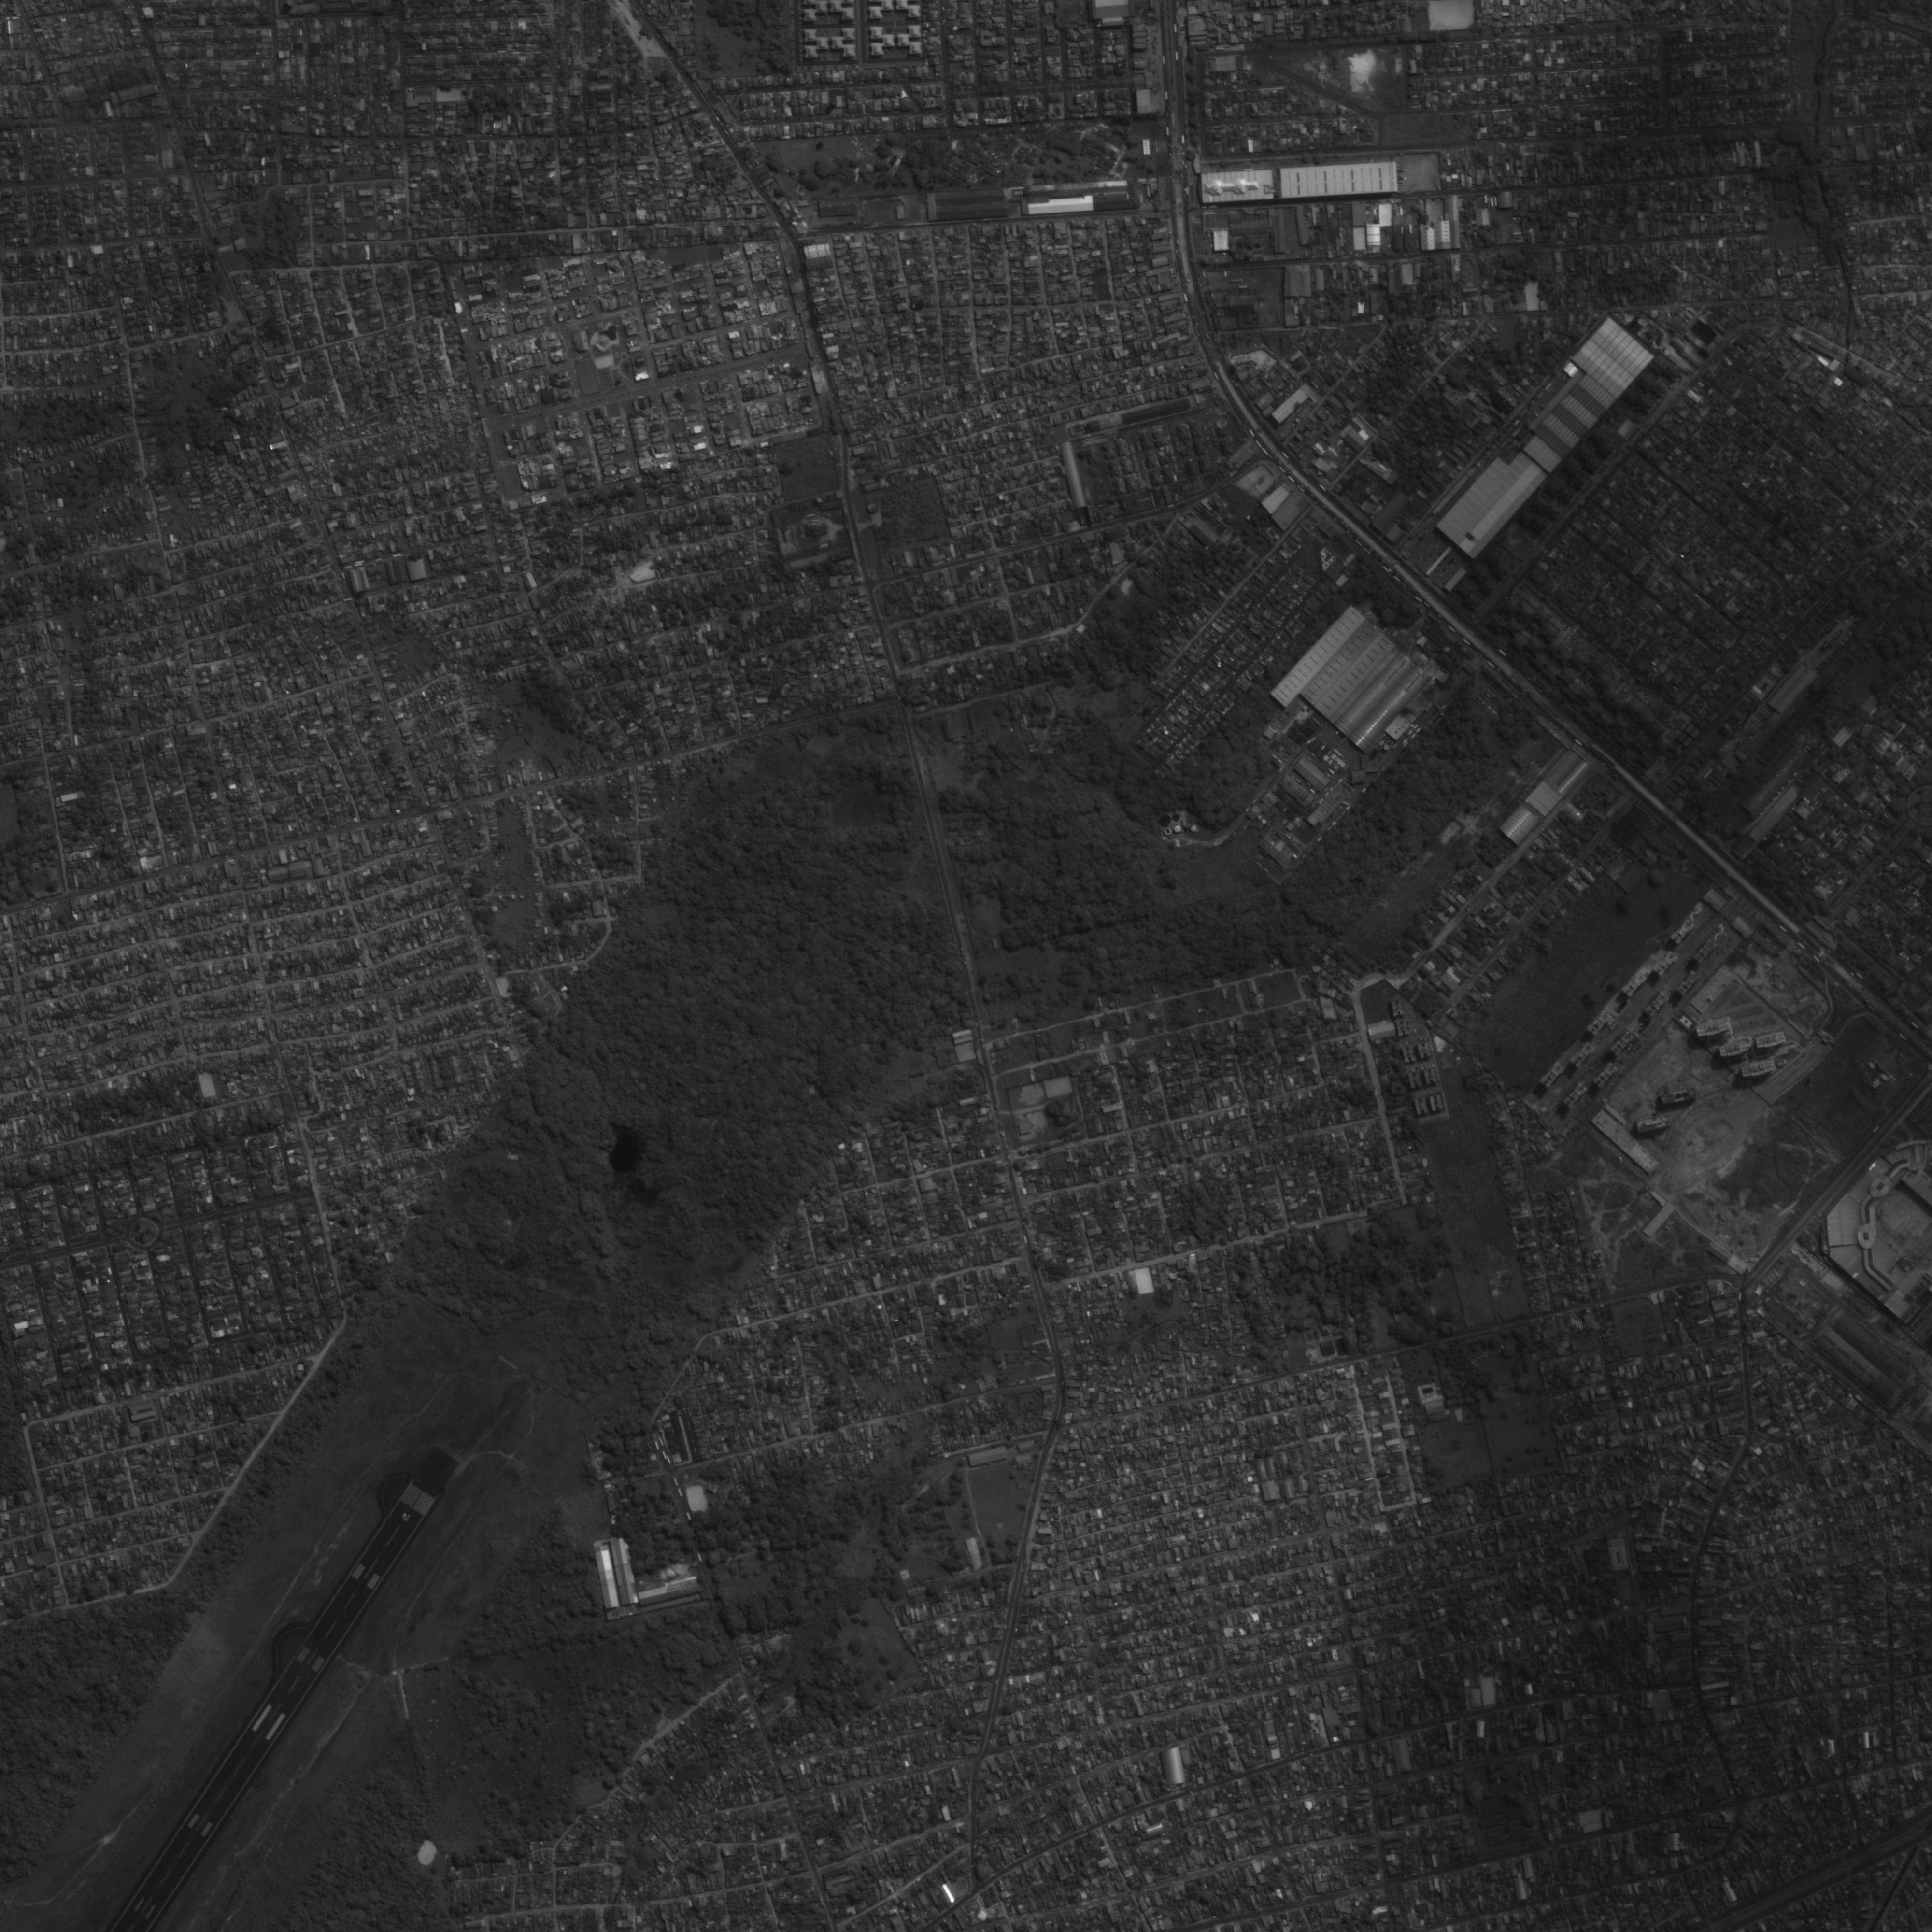roundabout: (122, 1215, 165, 1249), (1907, 784, 1932, 830)
storage tank: (1189, 824, 1200, 833), (1162, 828, 1173, 837), (1173, 824, 1182, 833), (1256, 816, 1265, 821), (1261, 819, 1267, 826)
